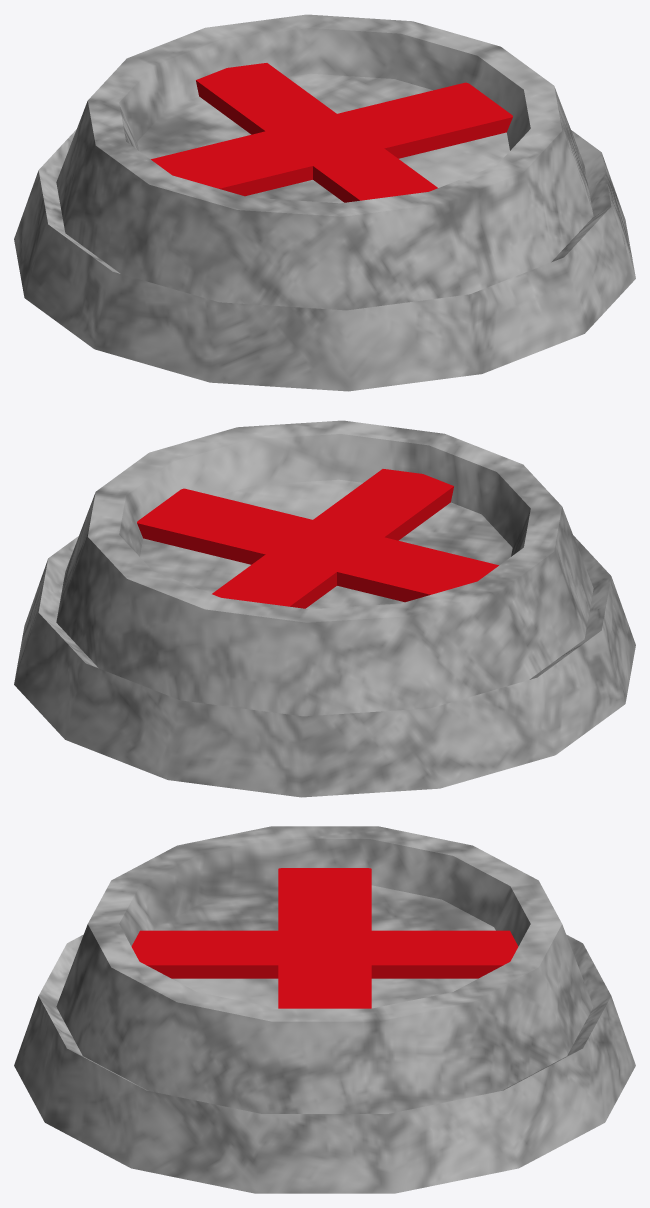
File: S.D.Saude.fbx
The picture shows the model from 3 angles, top to bottom: view 1: azimuth 30°, elevation 25°; view 2: azimuth 150°, elevation 25°; view 3: azimuth 270°, elevation 25°; orthographic projection.
Visible parts, largest first — view 1: Circle; view 2: Circle; view 3: Circle.
Boxes of the visible parts, x1=… form: Circle: x1=14, y1=14, x2=635, y2=391; Circle: x1=14, y1=420, x2=635, y2=797; Circle: x1=14, y1=826, x2=635, y2=1193.
Bounding box in the file's own units: 195 × 50.29 × 200.
